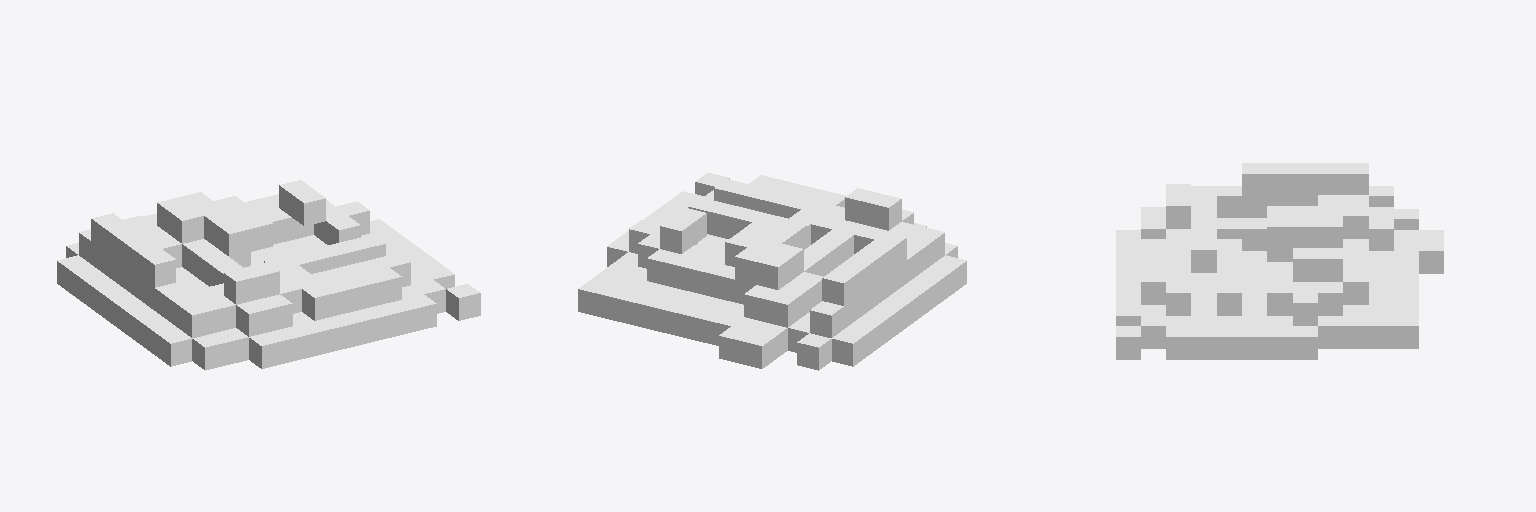
The model's file is CampfireBase.obj.
The picture shows the model from 3 angles: view 1: azimuth 30°, elevation 25°; view 2: azimuth 150°, elevation 25°; view 3: azimuth 270°, elevation 25°; orthographic projection.
Parts seen in each view (by area): view 1: object 1; view 2: object 1; view 3: object 1.
Part boxes in pixels (x1,y1,x2,y2): object 1: (57,180,480,370); object 1: (578,173,966,370); object 1: (1116,163,1443,359).
Bounding box in the file's own units: 1.3 × 0.3 × 1.3.